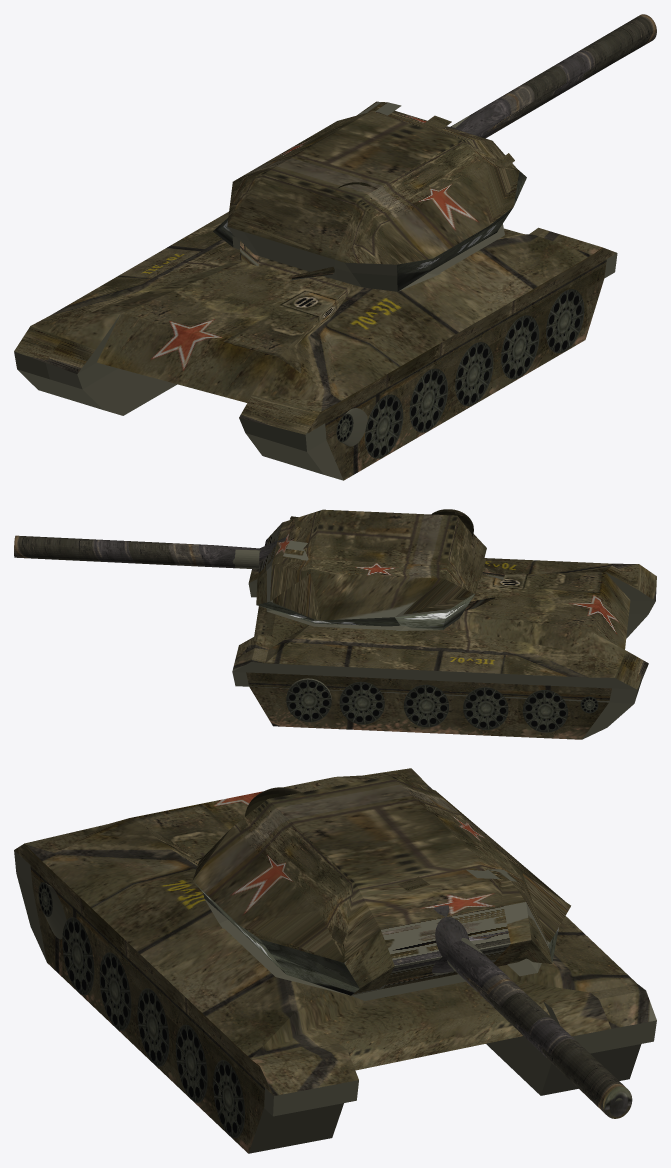
File: tankModel.obj
3 views of the same model, one above another, from view 1: azimuth 30°, elevation 25°; view 2: azimuth 150°, elevation 25°; view 3: azimuth 270°, elevation 25° (orthographic). The views are drawn at different scales.
Parts seen in each view (by area): view 1: tank_avatarmesh; view 2: tank_avatarmesh; view 3: tank_avatarmesh.
Boxes of the visible parts, left/top/right/bottom form: tank_avatarmesh: left=14, top=14, right=656, bottom=480; tank_avatarmesh: left=14, top=509, right=656, bottom=739; tank_avatarmesh: left=14, top=768, right=656, bottom=1153.
Size of the model in its own units: 8 by 2.07 by 5.08.
Materials: 3 (3 with a texture image).
